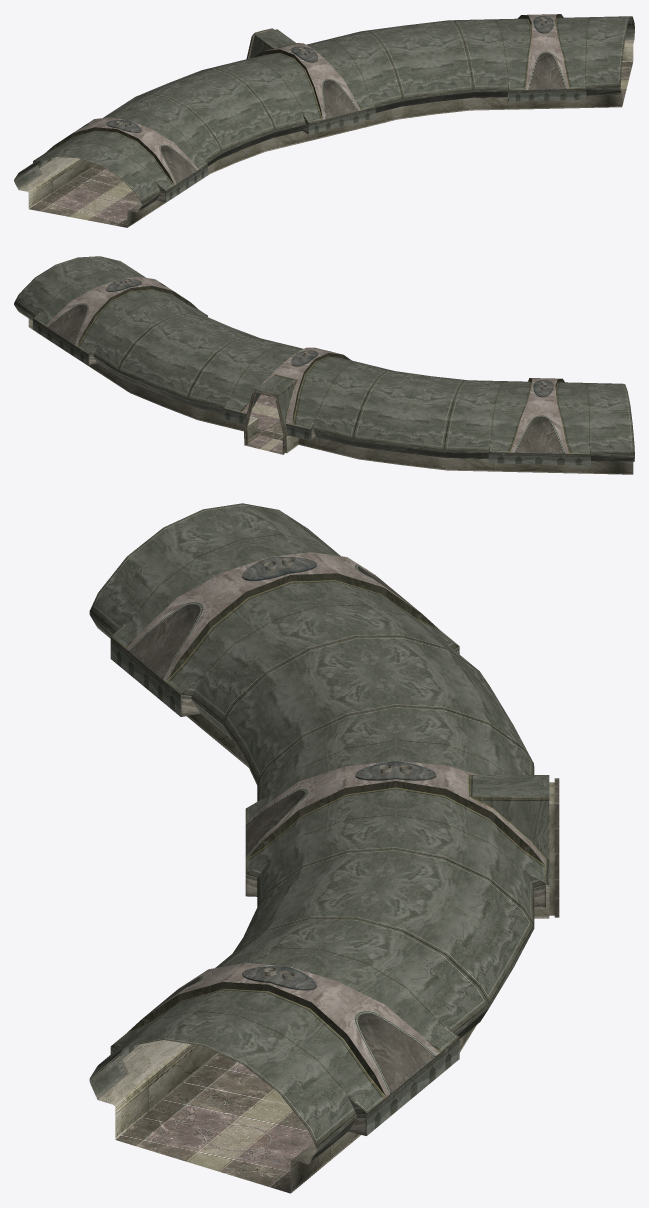
Rendered from thm_yavn_jedi_enclave_light_r19_curvehall3_mesh_r19.fbx.
3 views of the same model, one above another, from view 1: azimuth 30°, elevation 25°; view 2: azimuth 150°, elevation 25°; view 3: azimuth 270°, elevation 25° (orthographic). The views are drawn at different scales.
Parts seen in each view (by area): view 1: mesh_node; view 2: mesh_node; view 3: mesh_node.
Part boxes in pixels (left/top/right/bottom): mesh_node: left=14, top=14, right=634, bottom=227; mesh_node: left=14, top=256, right=634, bottom=474; mesh_node: left=89, top=503, right=559, bottom=1193.
Size of the model in its own units: 35.76 by 3.65 by 11.72.
